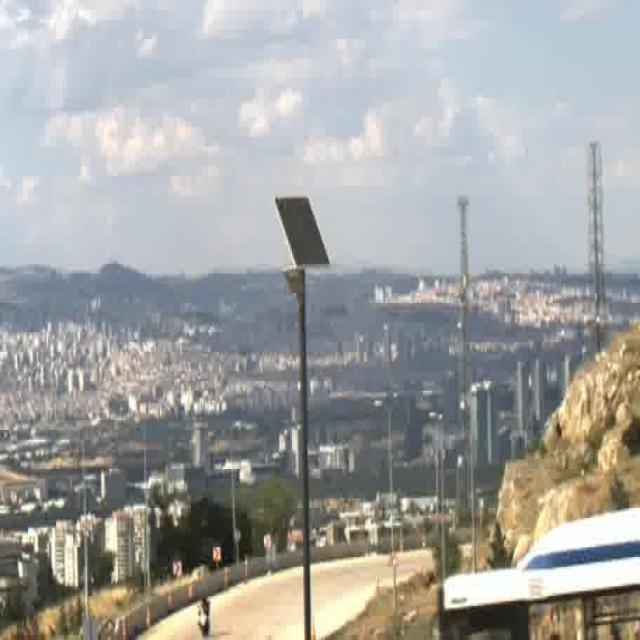Bus: (442, 504, 640, 640)
Motorcycle: (198, 600, 209, 638)
